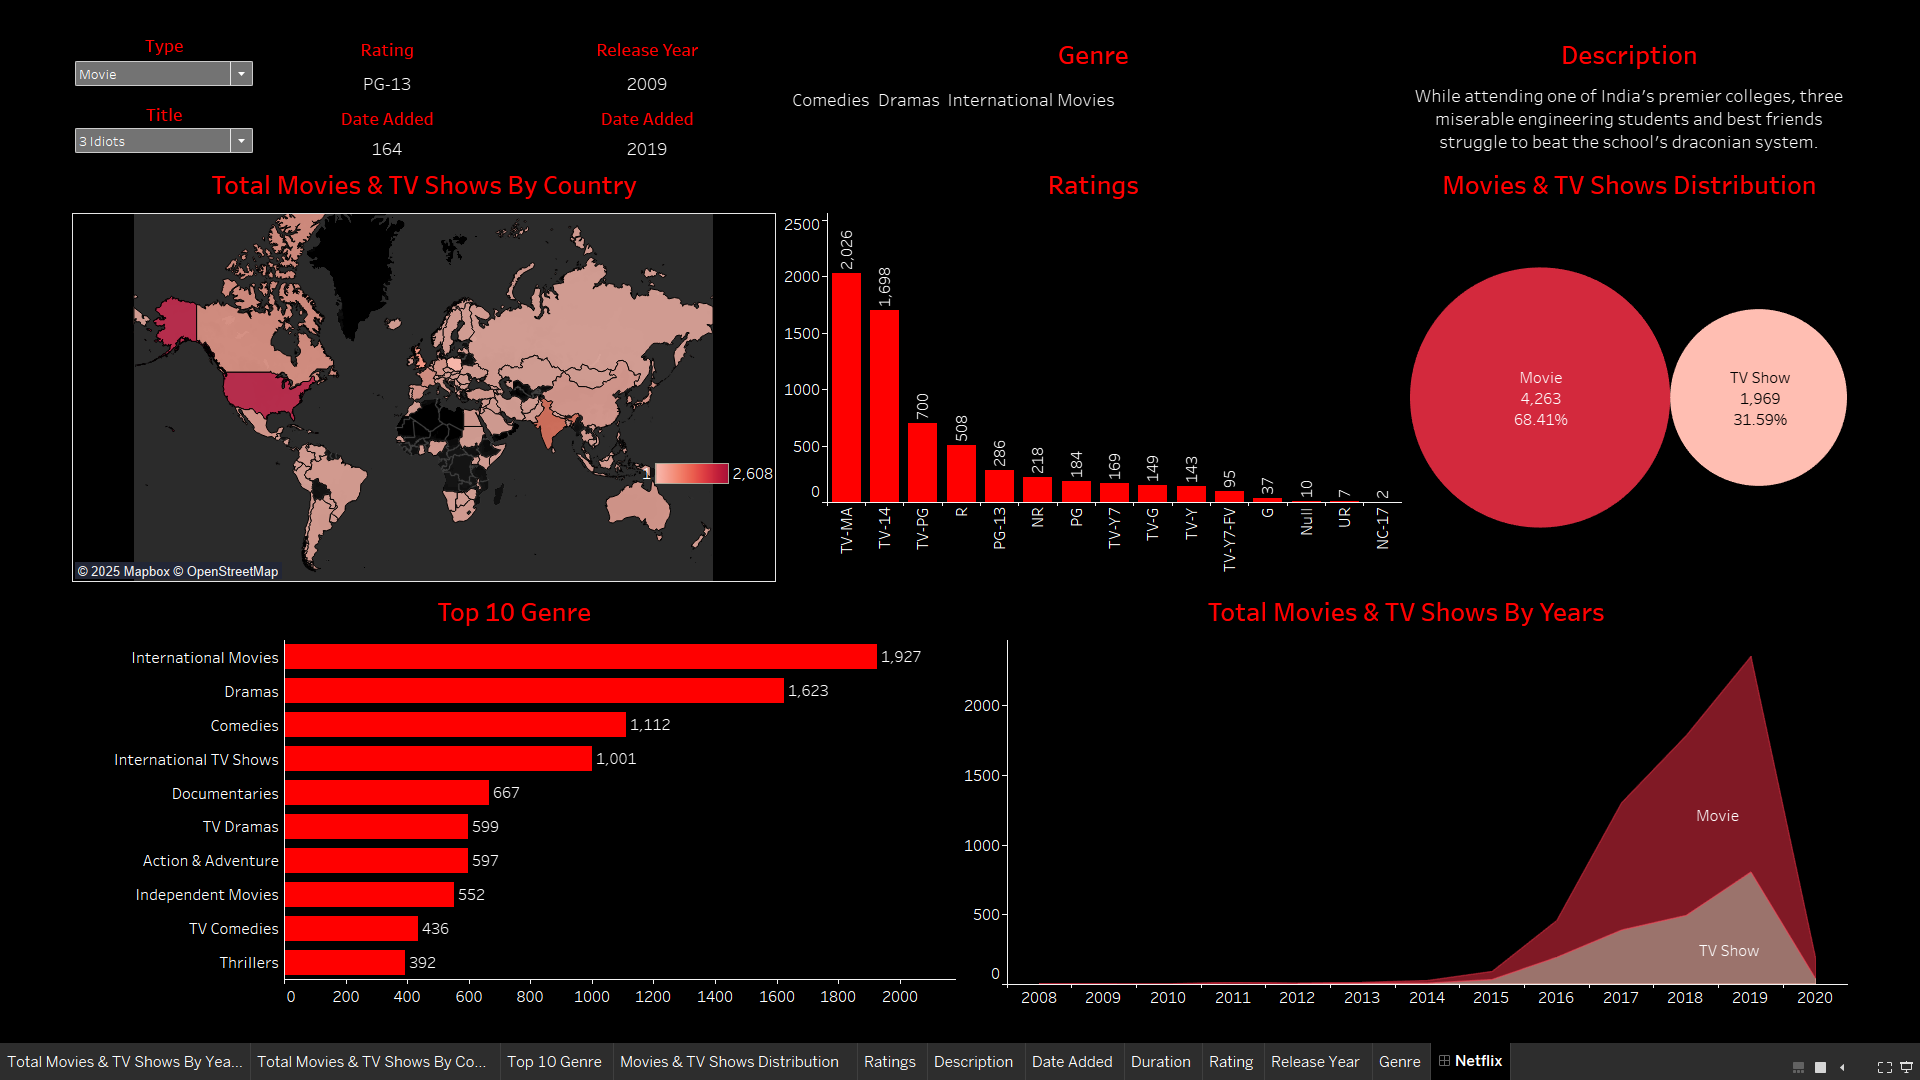

Layout of this report page (visuals, bound fields, positions):
{"tool":"tableau","page":{"name":"Netflix","canvas":[1800,1000],"ordinal":0},"visuals":[{"type":"filter","title":"Description","param":"[federated.0n84ngc071tozc1cklmxu04jo4zg].[none:type:nk]","box":[8,8,192,69]},{"type":"worksheet","title":"Rating","mark":"Automatic","box":[200,8,254,69]},{"type":"worksheet","title":"Release Year","mark":"Automatic","box":[454,8,266,69]},{"type":"worksheet","title":"Genre","mark":"Automatic","box":[720,8,626,130]},{"type":"worksheet","title":"Description","mark":"Automatic","box":[1346,8,446,130]},{"type":"filter","title":"Description","param":"[federated.0n84ngc071tozc1cklmxu04jo4zg].[none:title:nk]","box":[8,77,192,61]},{"type":"worksheet","title":"Duration","mark":"Automatic","box":[200,77,254,61]},{"type":"worksheet","title":"Date Added","mark":"Automatic","box":[454,77,266,61]},{"type":"worksheet","title":"Total Movies & TV Shows By Country","mark":"Multipolygon","box":[8,138,712,427]},{"type":"worksheet","title":"Ratings","mark":"Automatic","rows":["show_id"],"cols":["rating"],"box":[720,138,626,427]},{"type":"worksheet","title":"Movies & TV Shows Distribution","mark":"Circle","box":[1346,138,446,427]},{"type":"legend","title":"Total Movies & TV Shows By Country","param":"[federated.0n84ngc071tozc1cklmxu04jo4zg].[ctd:show_id:qk]","box":[578,437.5,140,53.8]},{"type":"worksheet","title":"Top 10 Genre","mark":"Automatic","rows":["listed_in"],"cols":["show_id"],"box":[8,565,892,427]},{"type":"worksheet","title":"Total Movies & TV Shows By Years","mark":"Area","rows":["show_id"],"cols":["date_added"],"box":[900,565,892,427]}]}

Visuals, with their boxes on the page's 1800x1000 design canvas (x1, y1, x2, y2). These are canvas units, not pixel positions in the 1920x1080 screenshot, which may show the page scaled, cropped or inside an application window:
"Description" filter: bbox(8, 8, 200, 77)
"Rating" worksheet: bbox(200, 8, 454, 77)
"Release Year" worksheet: bbox(454, 8, 720, 77)
"Genre" worksheet: bbox(720, 8, 1346, 138)
"Description" worksheet: bbox(1346, 8, 1792, 138)
"Description" filter: bbox(8, 77, 200, 138)
"Duration" worksheet: bbox(200, 77, 454, 138)
"Date Added" worksheet: bbox(454, 77, 720, 138)
"Total Movies & TV Shows By Country" worksheet (Multipolygon marks): bbox(8, 138, 720, 565)
"Ratings" worksheet: bbox(720, 138, 1346, 565)
"Movies & TV Shows Distribution" worksheet (Circle marks): bbox(1346, 138, 1792, 565)
"Total Movies & TV Shows By Country" legend: bbox(578, 438, 718, 491)
"Top 10 Genre" worksheet: bbox(8, 565, 900, 992)
"Total Movies & TV Shows By Years" worksheet (Area marks): bbox(900, 565, 1792, 992)
